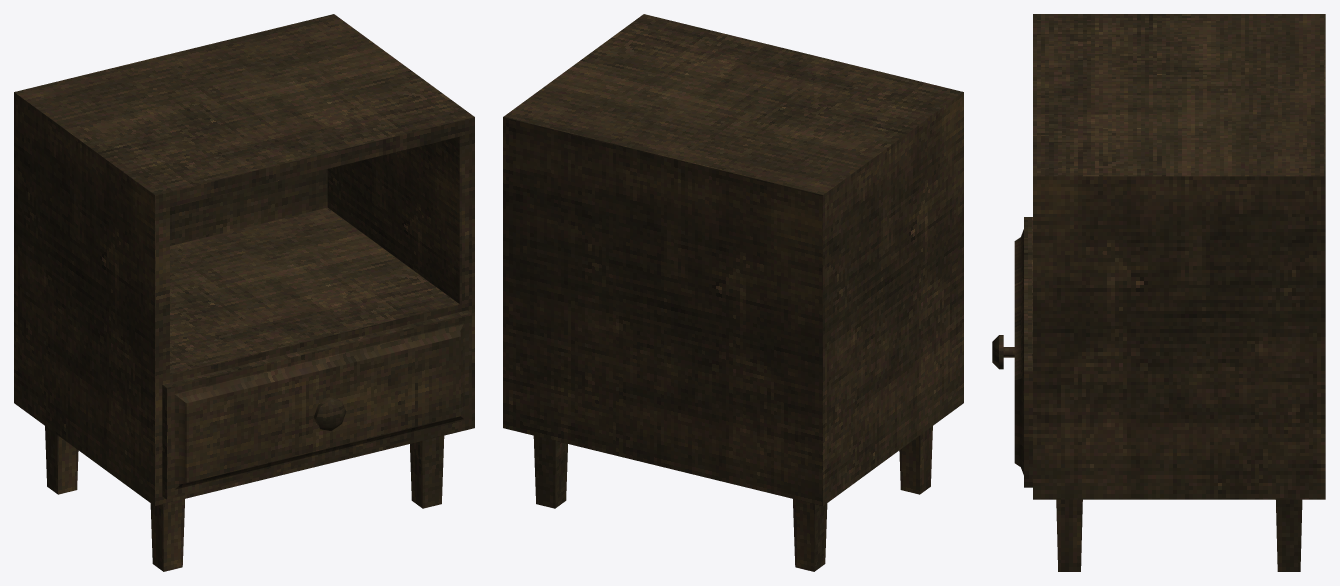
File: bedside_table_2_3.glb
3 views of the same model, side by side, from view 1: azimuth 30°, elevation 25°; view 2: azimuth 150°, elevation 25°; view 3: azimuth 270°, elevation 25° (orthographic). The views are drawn at different scales.
Visible parts, largest first — view 1: bedside_table_2_3, bedside_table_2_3_drawer; view 2: bedside_table_2_3; view 3: bedside_table_2_3, bedside_table_2_3_drawer.
Boxes of the visible parts, left/top/right/bottom form: bedside_table_2_3: left=14, top=14, right=474, bottom=571; bedside_table_2_3_drawer: left=162, top=310, right=471, bottom=499; bedside_table_2_3: left=503, top=14, right=963, bottom=571; bedside_table_2_3: left=1033, top=14, right=1325, bottom=571; bedside_table_2_3_drawer: left=992, top=217, right=1032, bottom=487.
Size of the model in its own units: 0.504 by 0.588 by 0.4374.
1 material, 1 textured.
